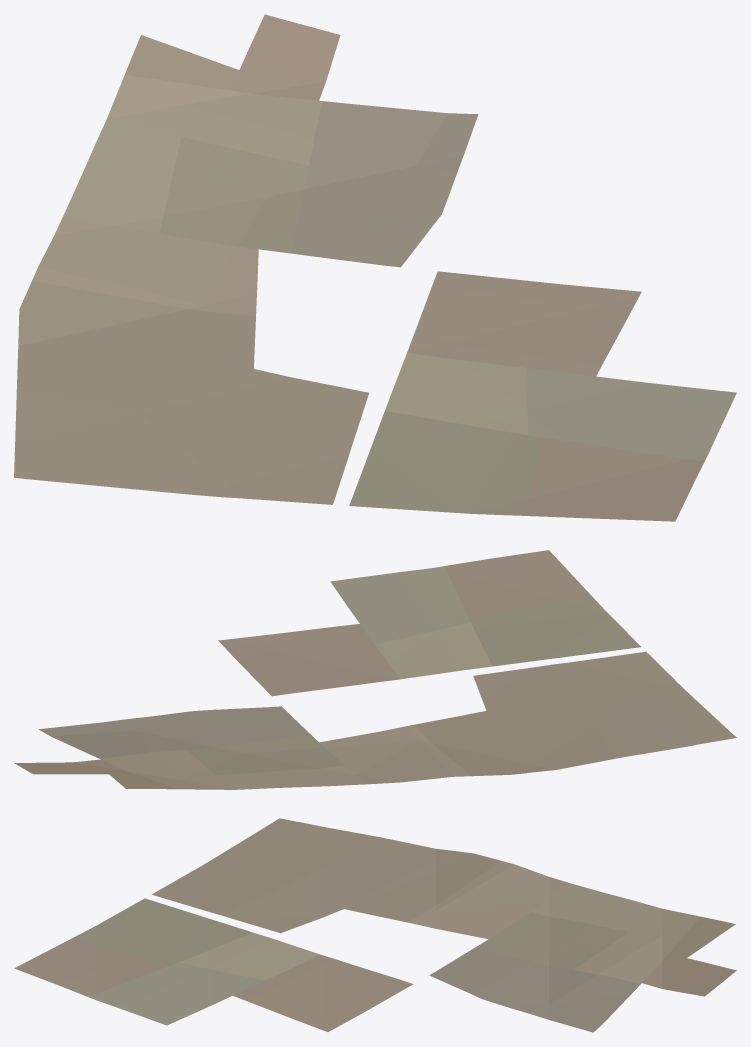
File: farm_-25_-26_soil.glb
3 views of the same model, one above another, from view 1: azimuth 30°, elevation 25°; view 2: azimuth 150°, elevation 25°; view 3: azimuth 270°, elevation 25° (orthographic). The views are drawn at different scales.
Parts seen in each view (by area): view 1: geometry_0; view 2: geometry_0; view 3: geometry_0.
Boxes of the visible parts, x1,y1,x2,y2 form: geometry_0: [14, 14, 736, 521]; geometry_0: [14, 550, 736, 789]; geometry_0: [14, 818, 736, 1032].
Size of the model in its own units: 375 by 41.13 by 511.
